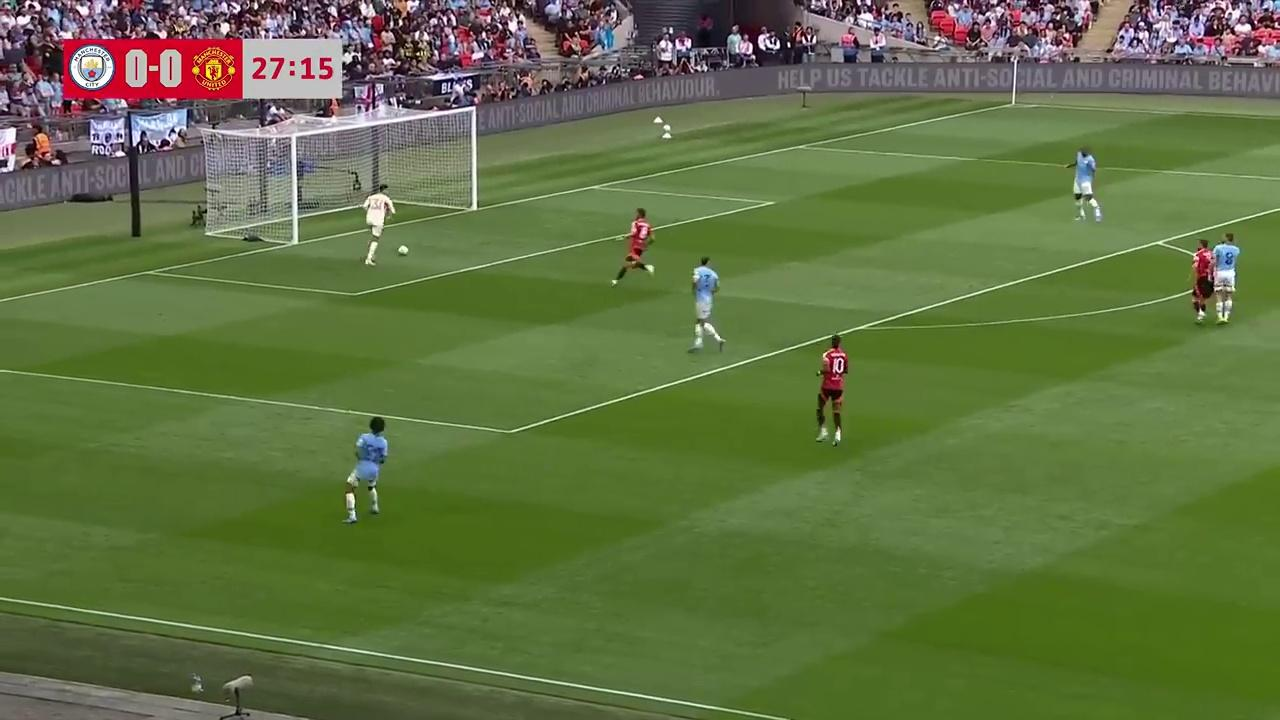ball: (395, 241, 410, 256)
player: (343, 415, 390, 524), (815, 333, 848, 446), (687, 256, 724, 354), (610, 208, 655, 286), (1065, 147, 1102, 222), (1211, 231, 1240, 324), (362, 190, 395, 265), (1190, 239, 1217, 323)
